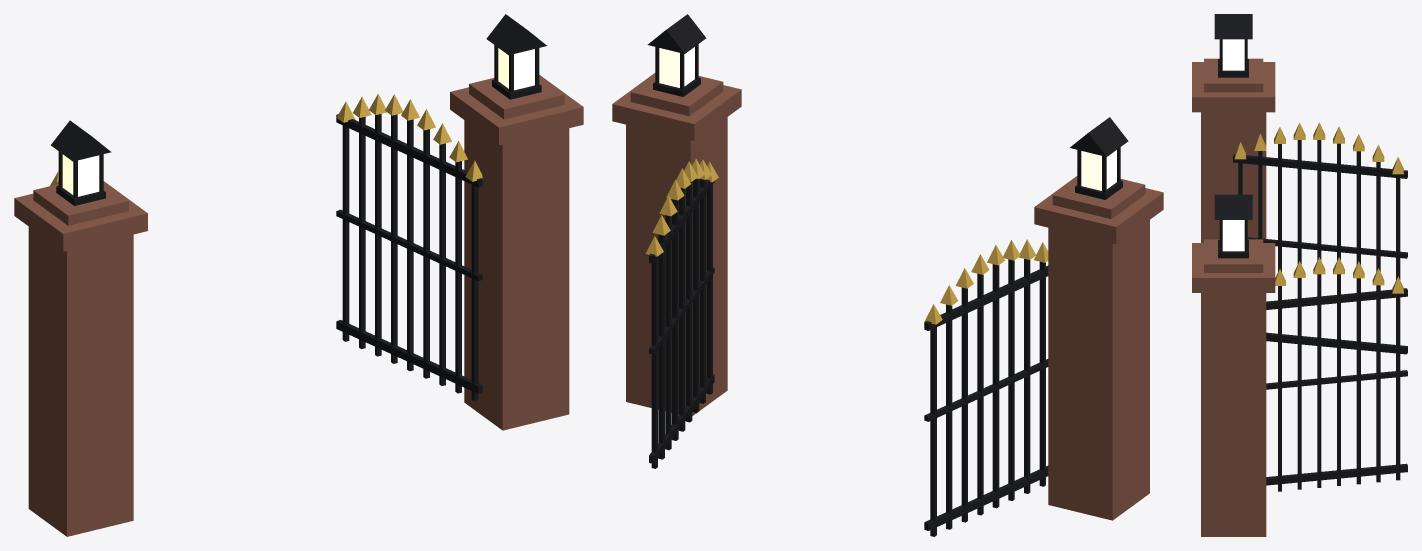
Rendered from gates_brick.glb.
3 views of the same model, side by side, from view 1: azimuth 30°, elevation 25°; view 2: azimuth 150°, elevation 25°; view 3: azimuth 270°, elevation 25° (orthographic). The views are drawn at different scales.
Parts seen in each view (by area): view 1: gates_brick; view 2: gates_brick; view 3: gates_brick.
Boxes of the visible parts, bbox=[...] form: gates_brick: bbox=[14, 14, 583, 536]; gates_brick: bbox=[612, 14, 1163, 536]; gates_brick: bbox=[1192, 14, 1407, 536].
Size of the model in its own units: 4.3 by 3.05 by 1.82.
